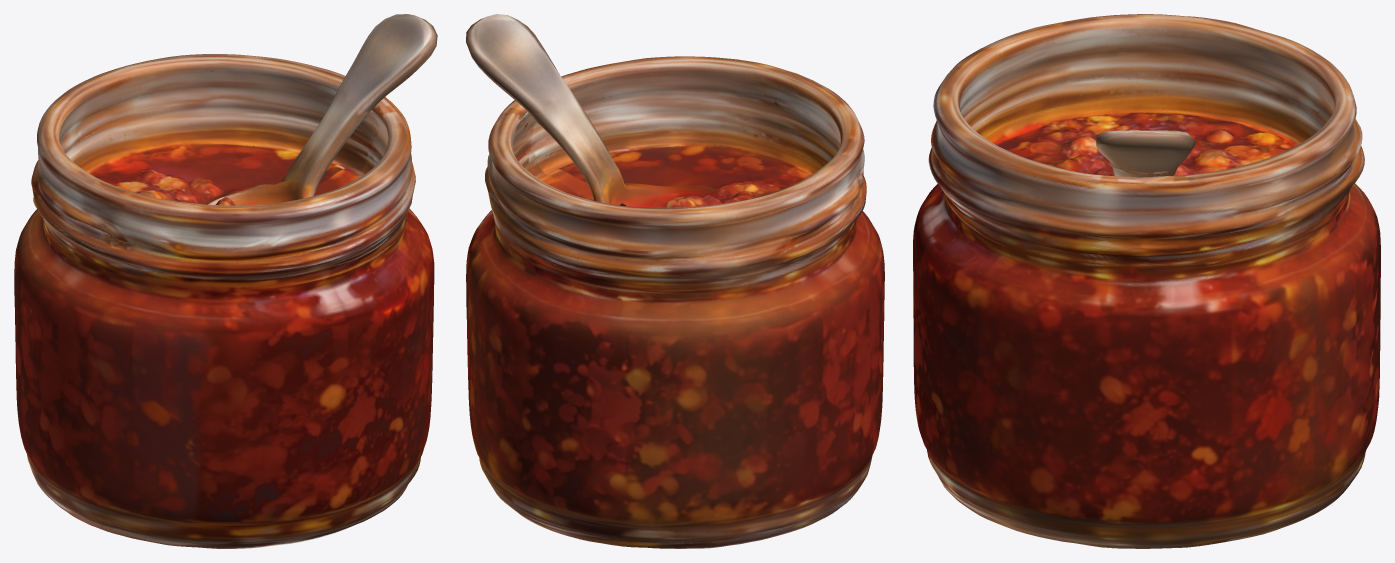
Rendered from SauceChiliAI.fbx.
3 views of the same model, side by side, from view 1: azimuth 30°, elevation 25°; view 2: azimuth 150°, elevation 25°; view 3: azimuth 270°, elevation 25° (orthographic). The views are drawn at different scales.
Visible parts, largest first — view 1: Retopo_Mesh.001; view 2: Retopo_Mesh.001; view 3: Retopo_Mesh.001.
Boxes of the visible parts, x1,y1,x2,y2 form: Retopo_Mesh.001: (14, 14, 437, 548); Retopo_Mesh.001: (466, 14, 884, 548); Retopo_Mesh.001: (913, 14, 1380, 548).
Bounding box in the file's own units: 1 × 1 × 0.9639.
